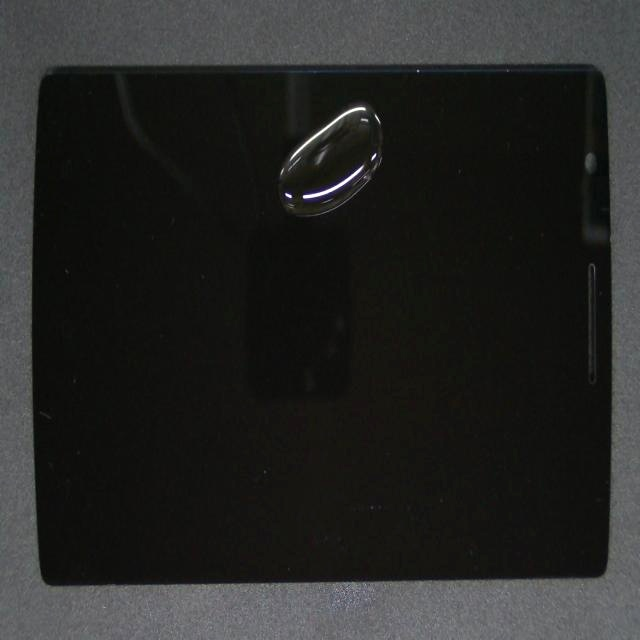oil: (194, 112, 574, 208)
